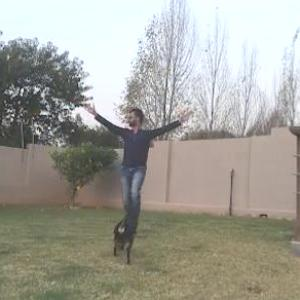takeoff: (78, 90, 200, 231)
